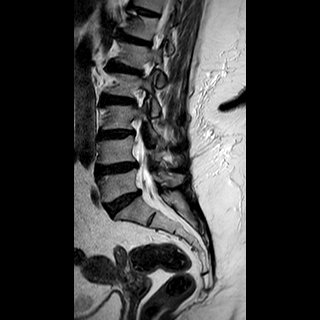RFS0: (126, 82, 150, 112)
